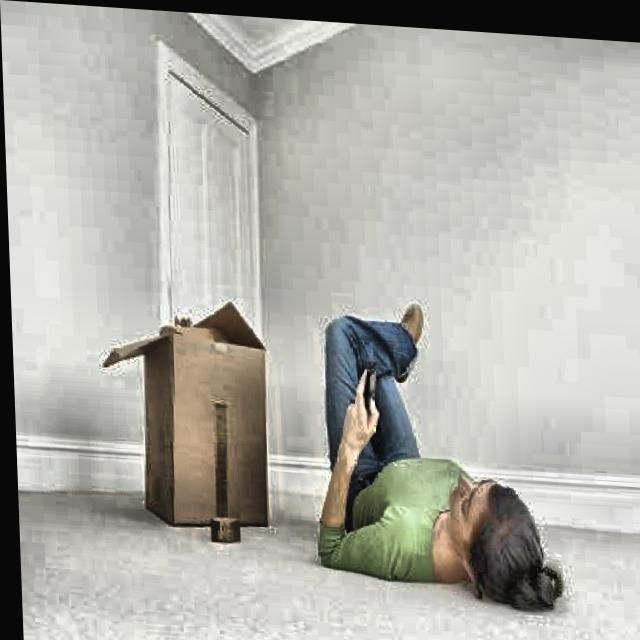Cardbox: (114, 282, 284, 569)
